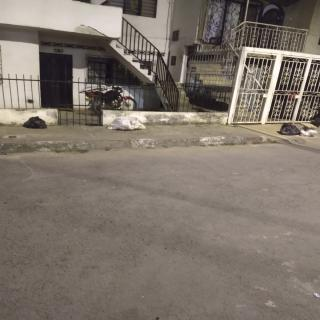Garbage: (103, 115, 150, 132), (21, 115, 49, 130), (278, 121, 301, 137), (301, 126, 318, 137)
